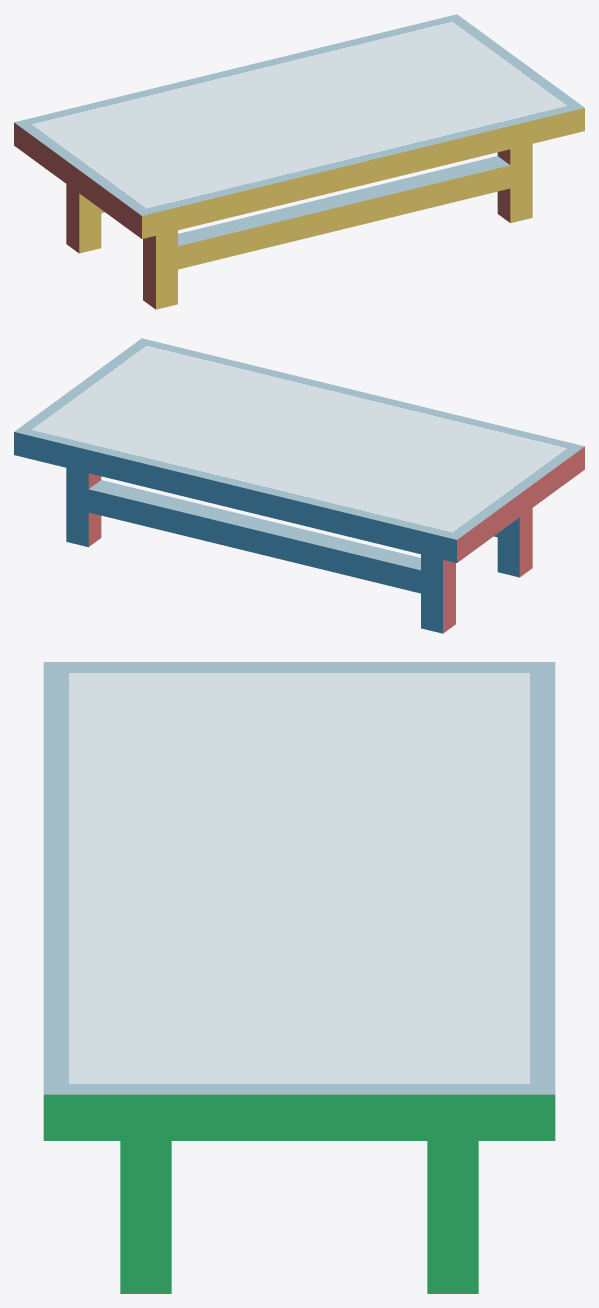
The model's file is Table.gltf.
3 renders of one model, top to bottom at view 1: azimuth 30°, elevation 25°; view 2: azimuth 150°, elevation 25°; view 3: azimuth 270°, elevation 25°, orthographic. The views are drawn at different scales.
Visible parts, largest first — view 1: cube (×5); view 2: cube (×5); view 3: cube (×3).
Boxes of the visible parts, x1,y1,x2,y2 form: cube (×5): (14, 14, 584, 309); cube (×5): (14, 338, 584, 633); cube (×3): (43, 662, 555, 1293).
Size of the model in its own units: 2.5 by 0.625 by 1.25.
1 material, 1 textured.
